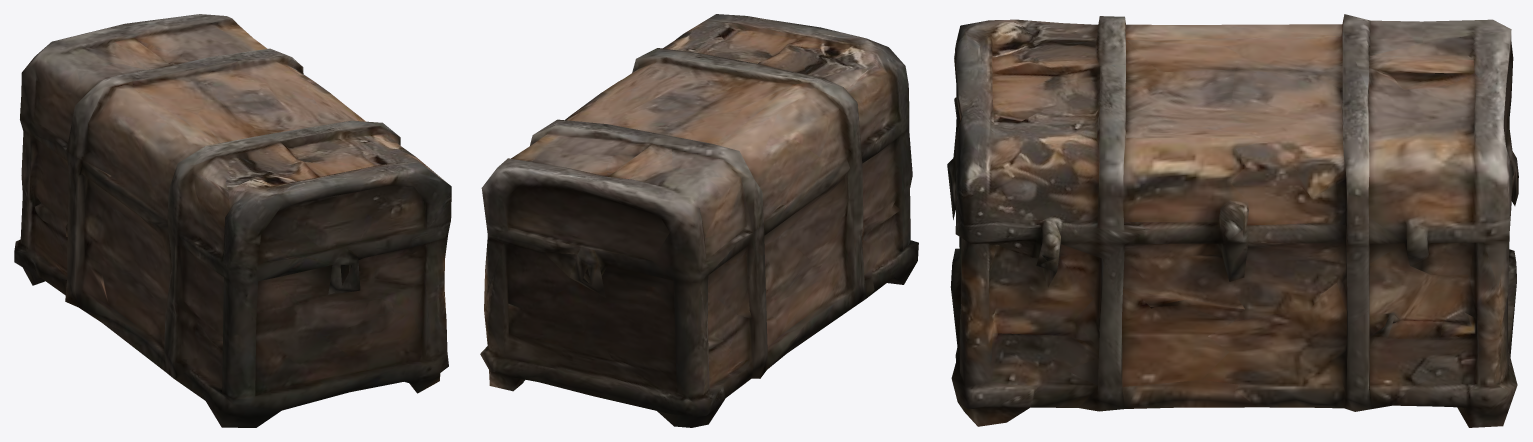
Rendered from e_chest.glb.
The picture shows the model from 3 angles, left to right: view 1: azimuth 30°, elevation 25°; view 2: azimuth 150°, elevation 25°; view 3: azimuth 270°, elevation 25°; orthographic projection. The views are drawn at different scales.
Visible parts, largest first — view 1: tripo_node_fba31040-b145-41d3-98b7-6106fad93124; view 2: tripo_node_fba31040-b145-41d3-98b7-6106fad93124; view 3: tripo_node_fba31040-b145-41d3-98b7-6106fad93124.
Part boxes in pixels (x1,y1,x2,y2): tripo_node_fba31040-b145-41d3-98b7-6106fad93124: [14, 14, 451, 427]; tripo_node_fba31040-b145-41d3-98b7-6106fad93124: [480, 14, 918, 427]; tripo_node_fba31040-b145-41d3-98b7-6106fad93124: [947, 14, 1518, 427].
Size of the model in its own units: 0.6109 by 0.5792 by 1.
Materials: 1 (1 with a texture image).
